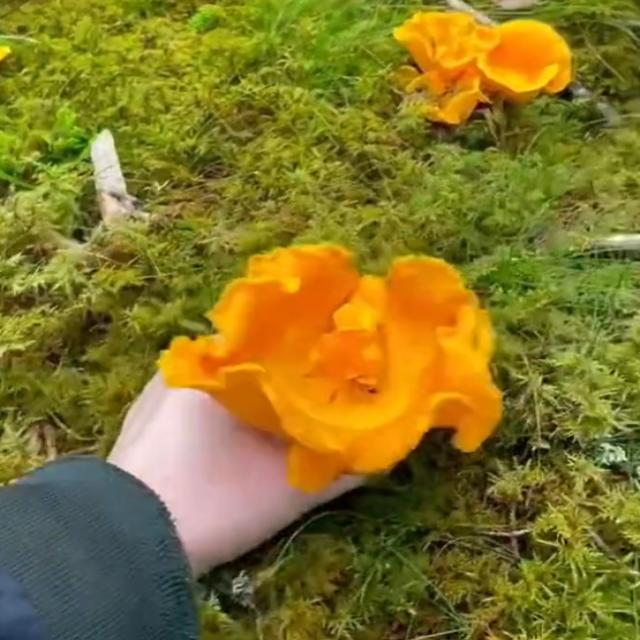chanterelle: (157, 245, 504, 495), (392, 11, 573, 126)
